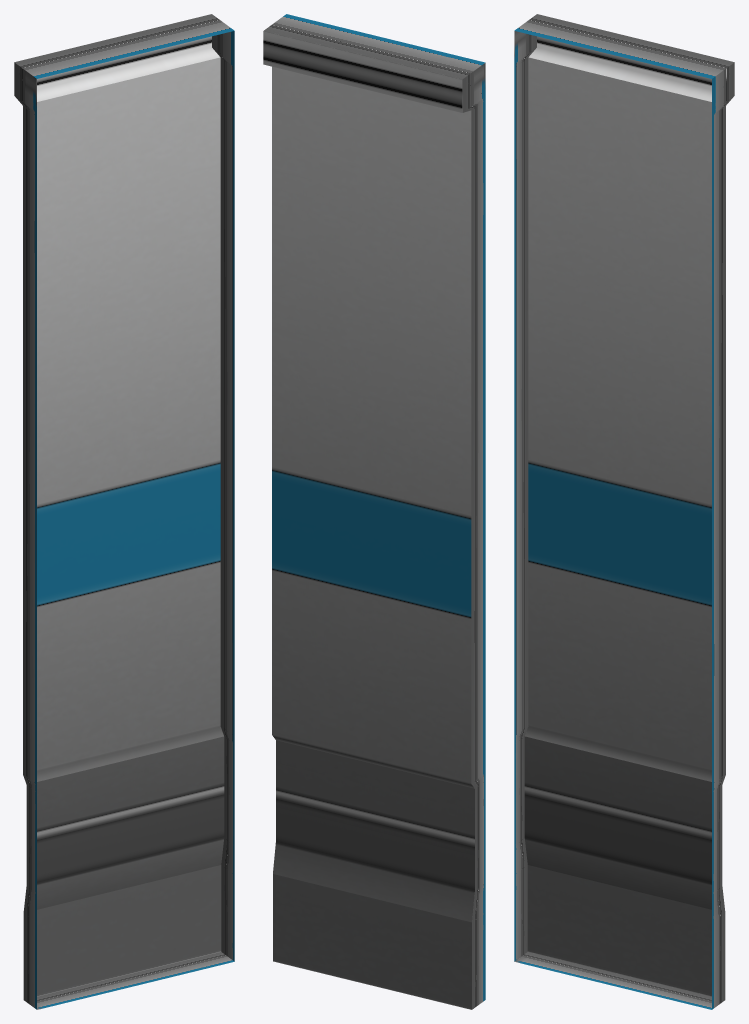
Rendered from VAL_1M_BB.fbx.
The picture shows the model from 3 angles, left to right: view 1: azimuth 30°, elevation 25°; view 2: azimuth 150°, elevation 25°; view 3: azimuth 330°, elevation 25°; orthographic projection.
Parts seen in each view (by area): view 1: VAL_1M_BB; view 2: VAL_1M_BB; view 3: VAL_1M_BB.
Boxes of the visible parts, x1,y1,x2,y2 form: VAL_1M_BB: (14,14,234,1009); VAL_1M_BB: (263,14,485,1009); VAL_1M_BB: (514,14,734,1009).
Size of the model in its own units: 1 by 4.5 by 0.201.
1 material, 1 textured.
